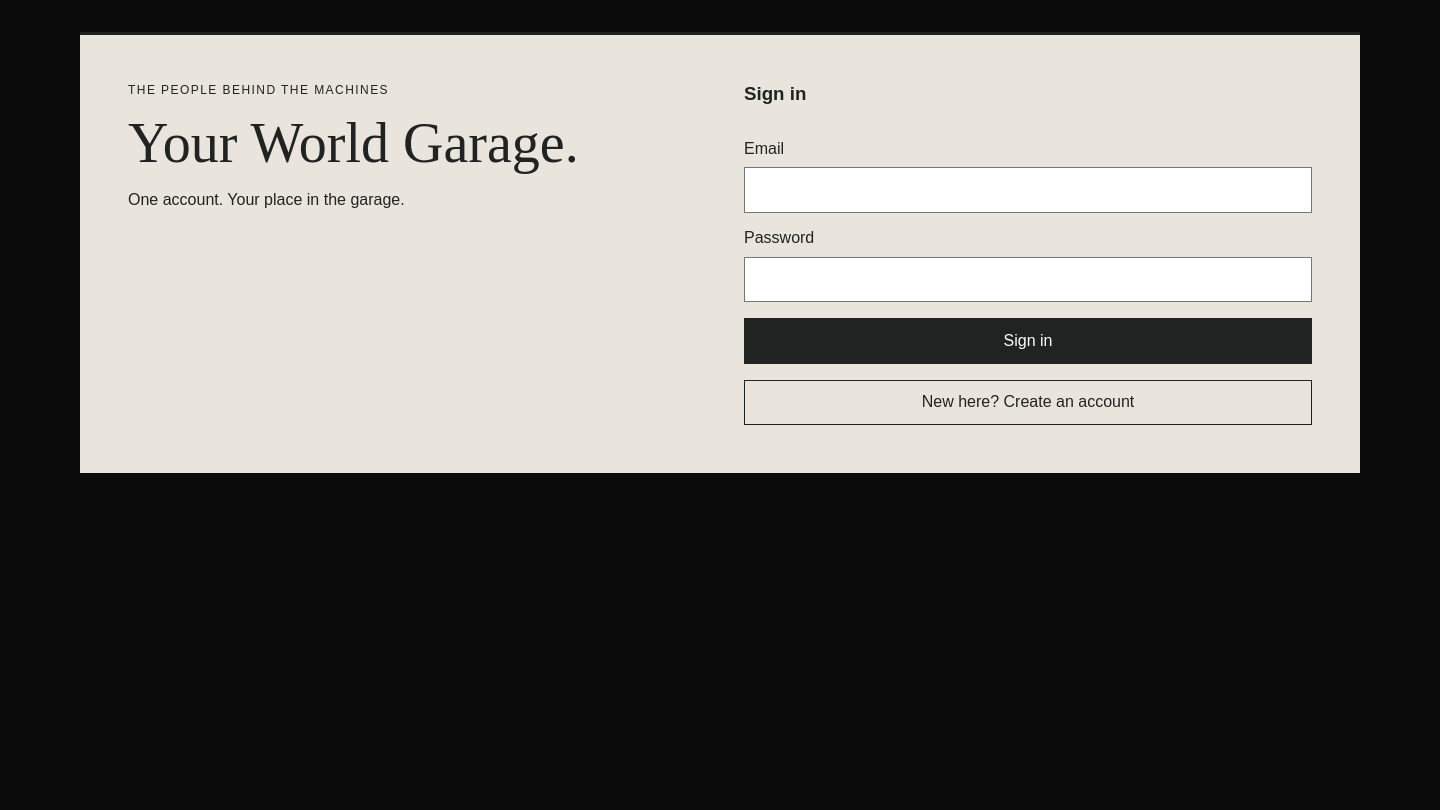
Test: account authentication › shows duplicate email errors
This screenshot has width=1440, height=810.
Click the button with class "account-switch" at (1028, 402), box [744,380,1312,425]
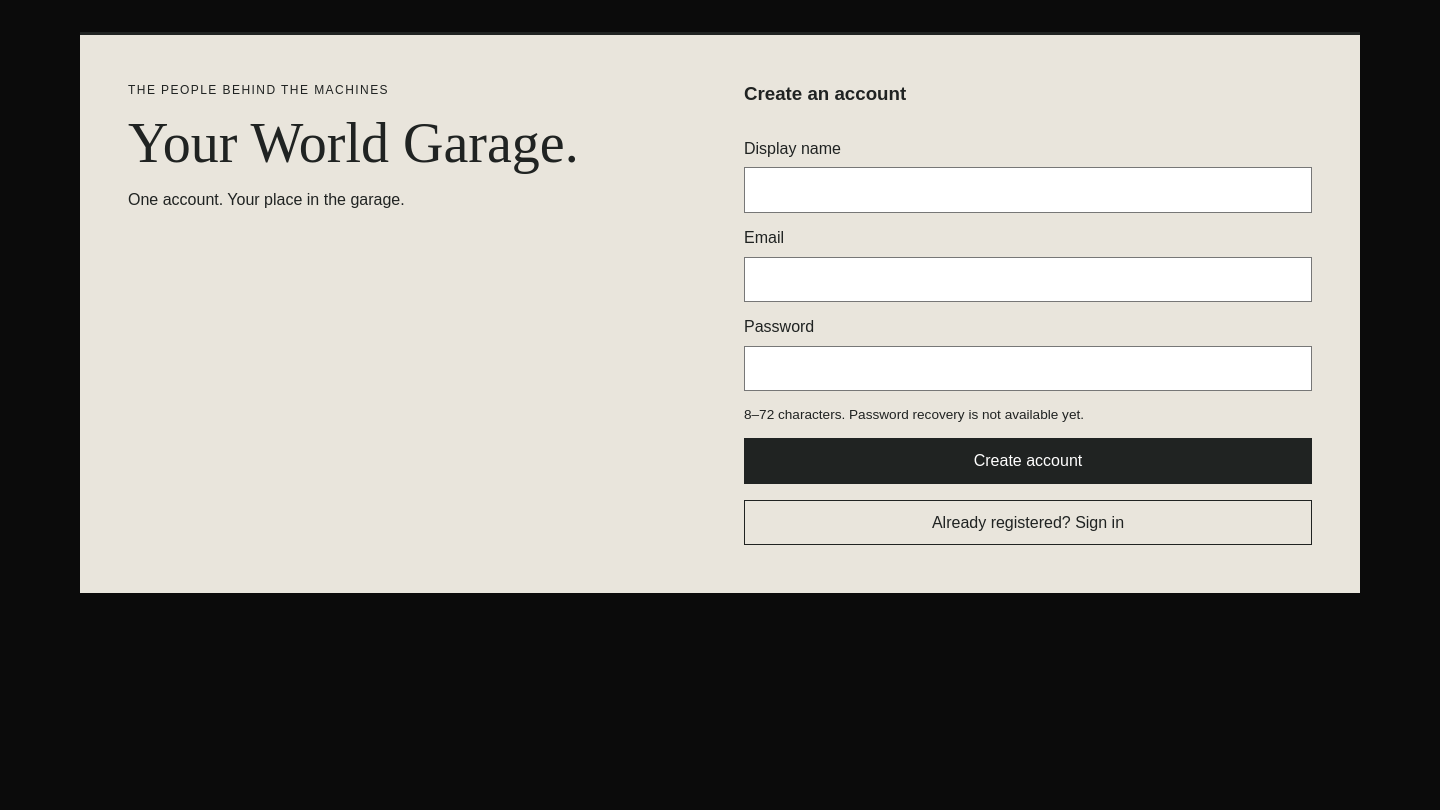
Type "Owner" into the field with id "account-name" at (1028, 190), box [744,167,1312,213]
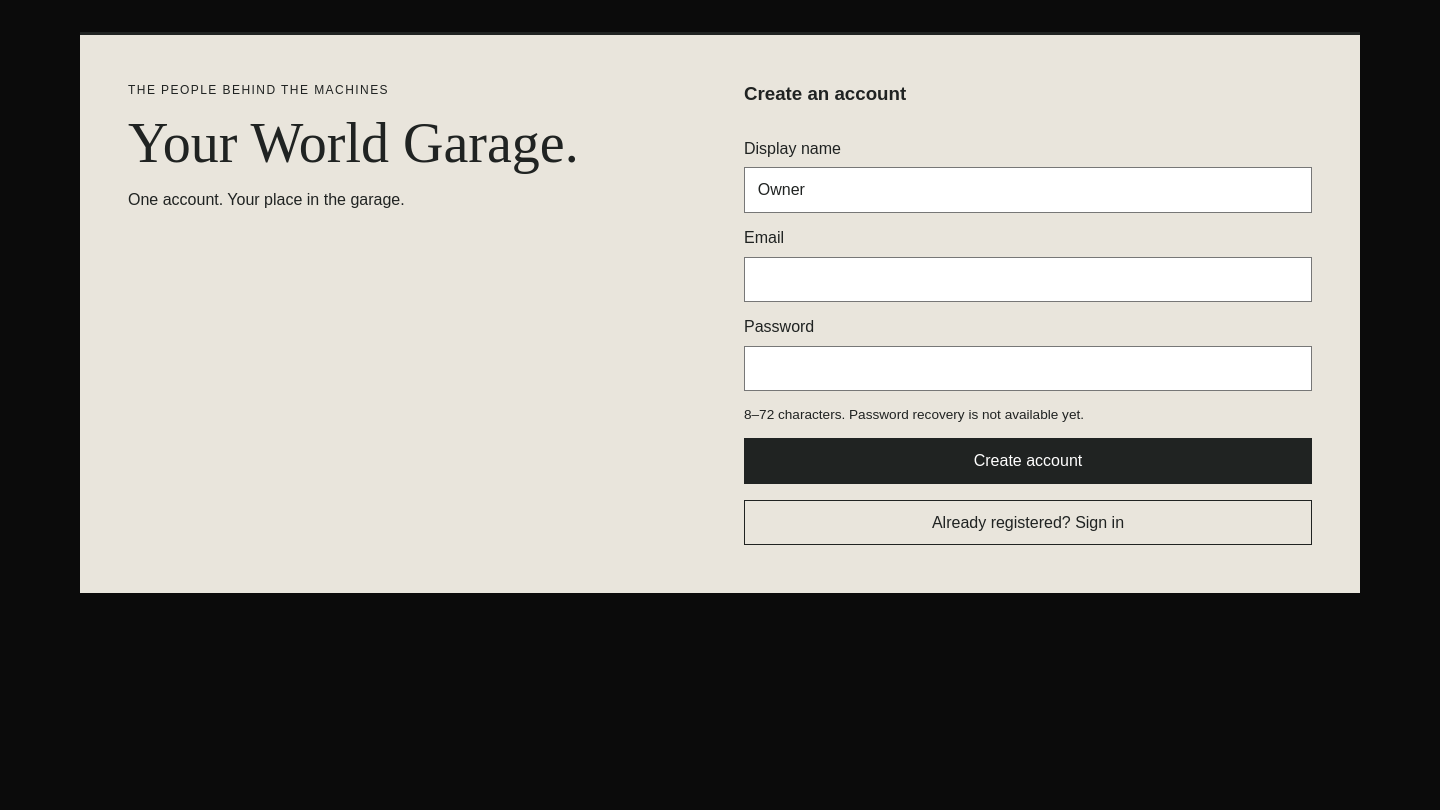
Type "owner@example.com" into the field with id "account-email" at (1028, 279), box [744,256,1312,302]
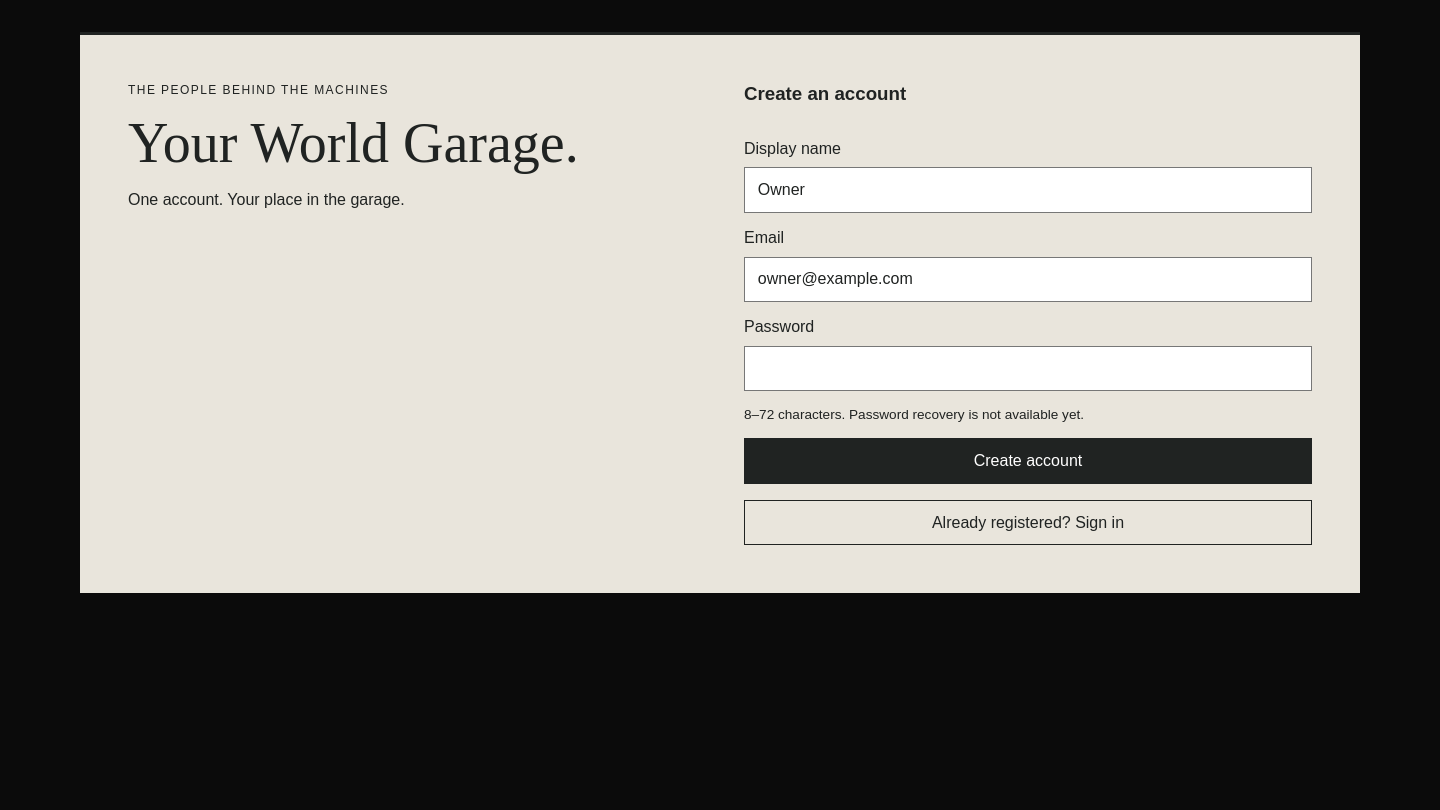
Type "Garage@2026" into the password field with id "account-password" at (1028, 368), box [744,346,1312,391]
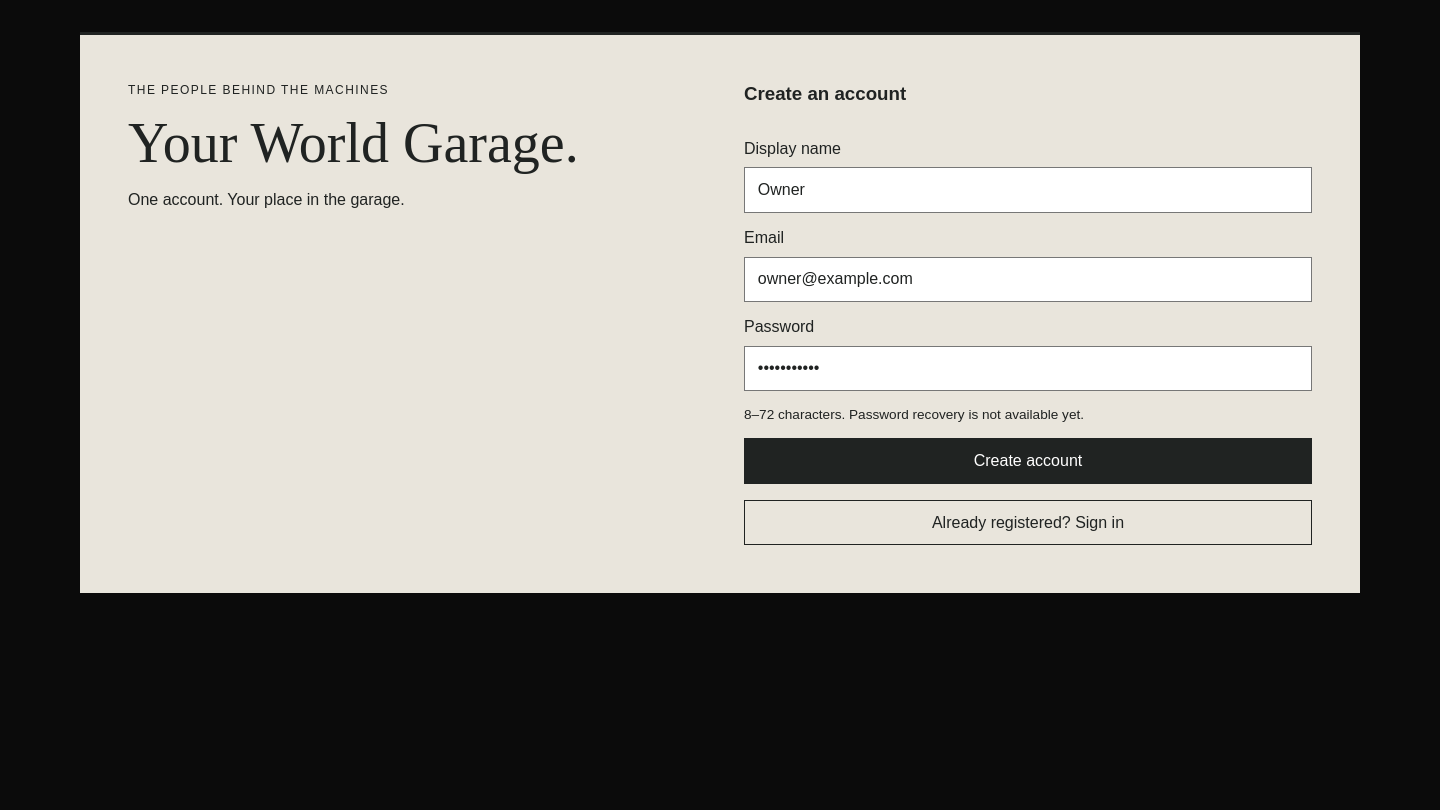
Submit the form, box [744,83,1312,546]
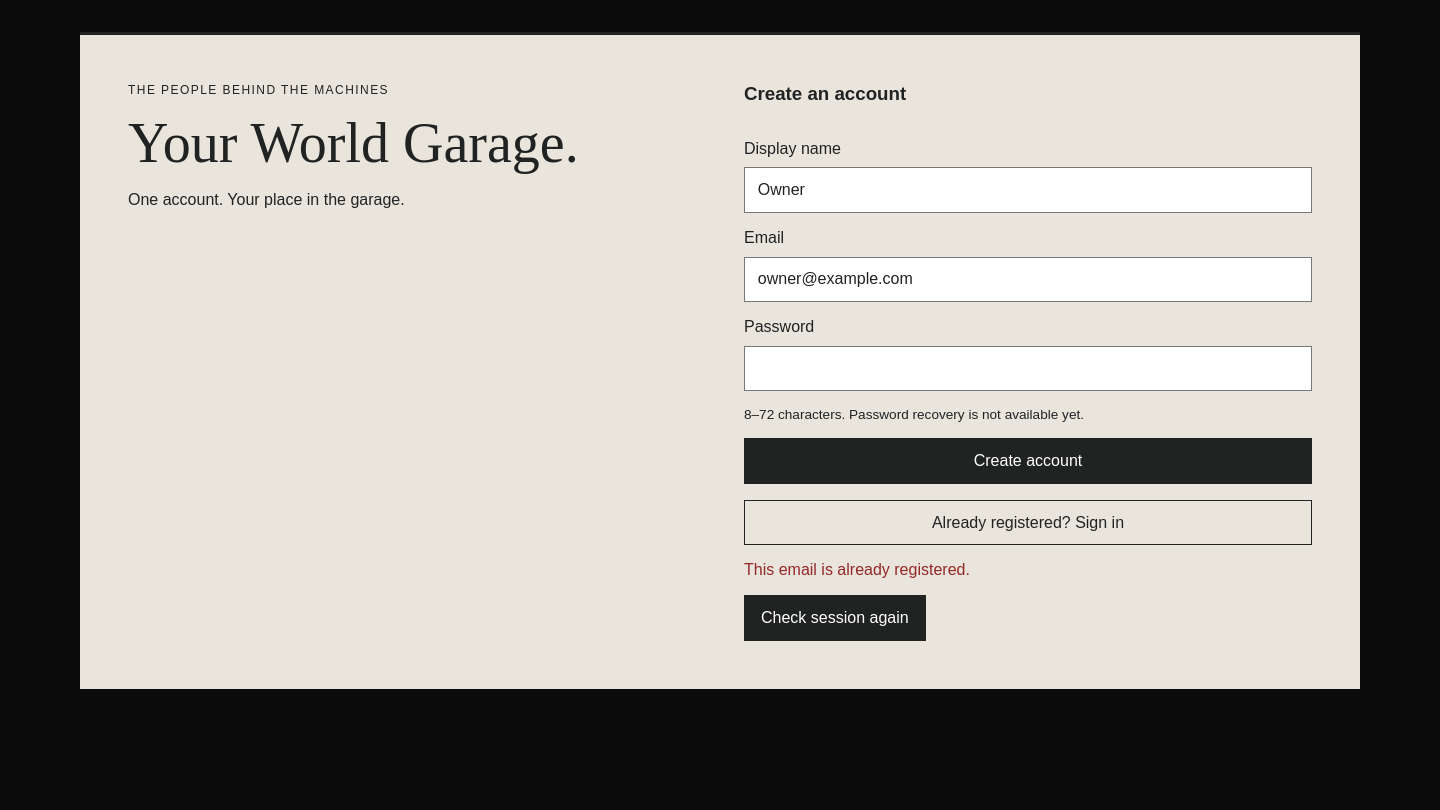
Expected: the message "This email is already registered. Check session again" is shown, [744,562,970,641]
